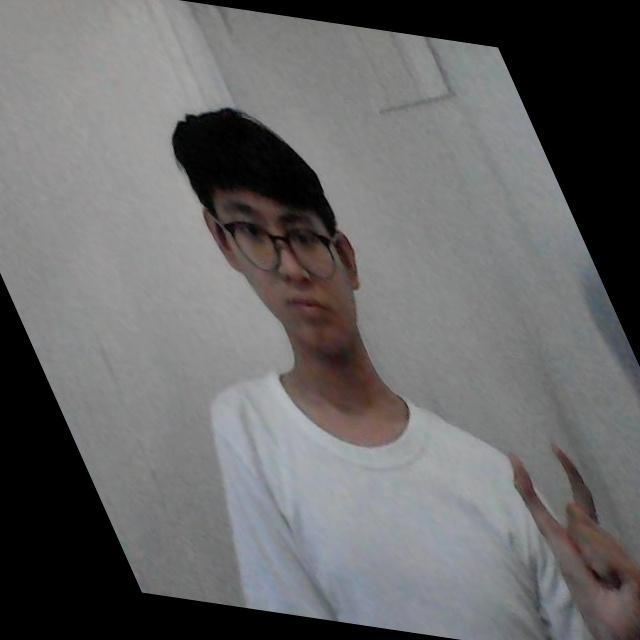U: (504, 432, 619, 566)
